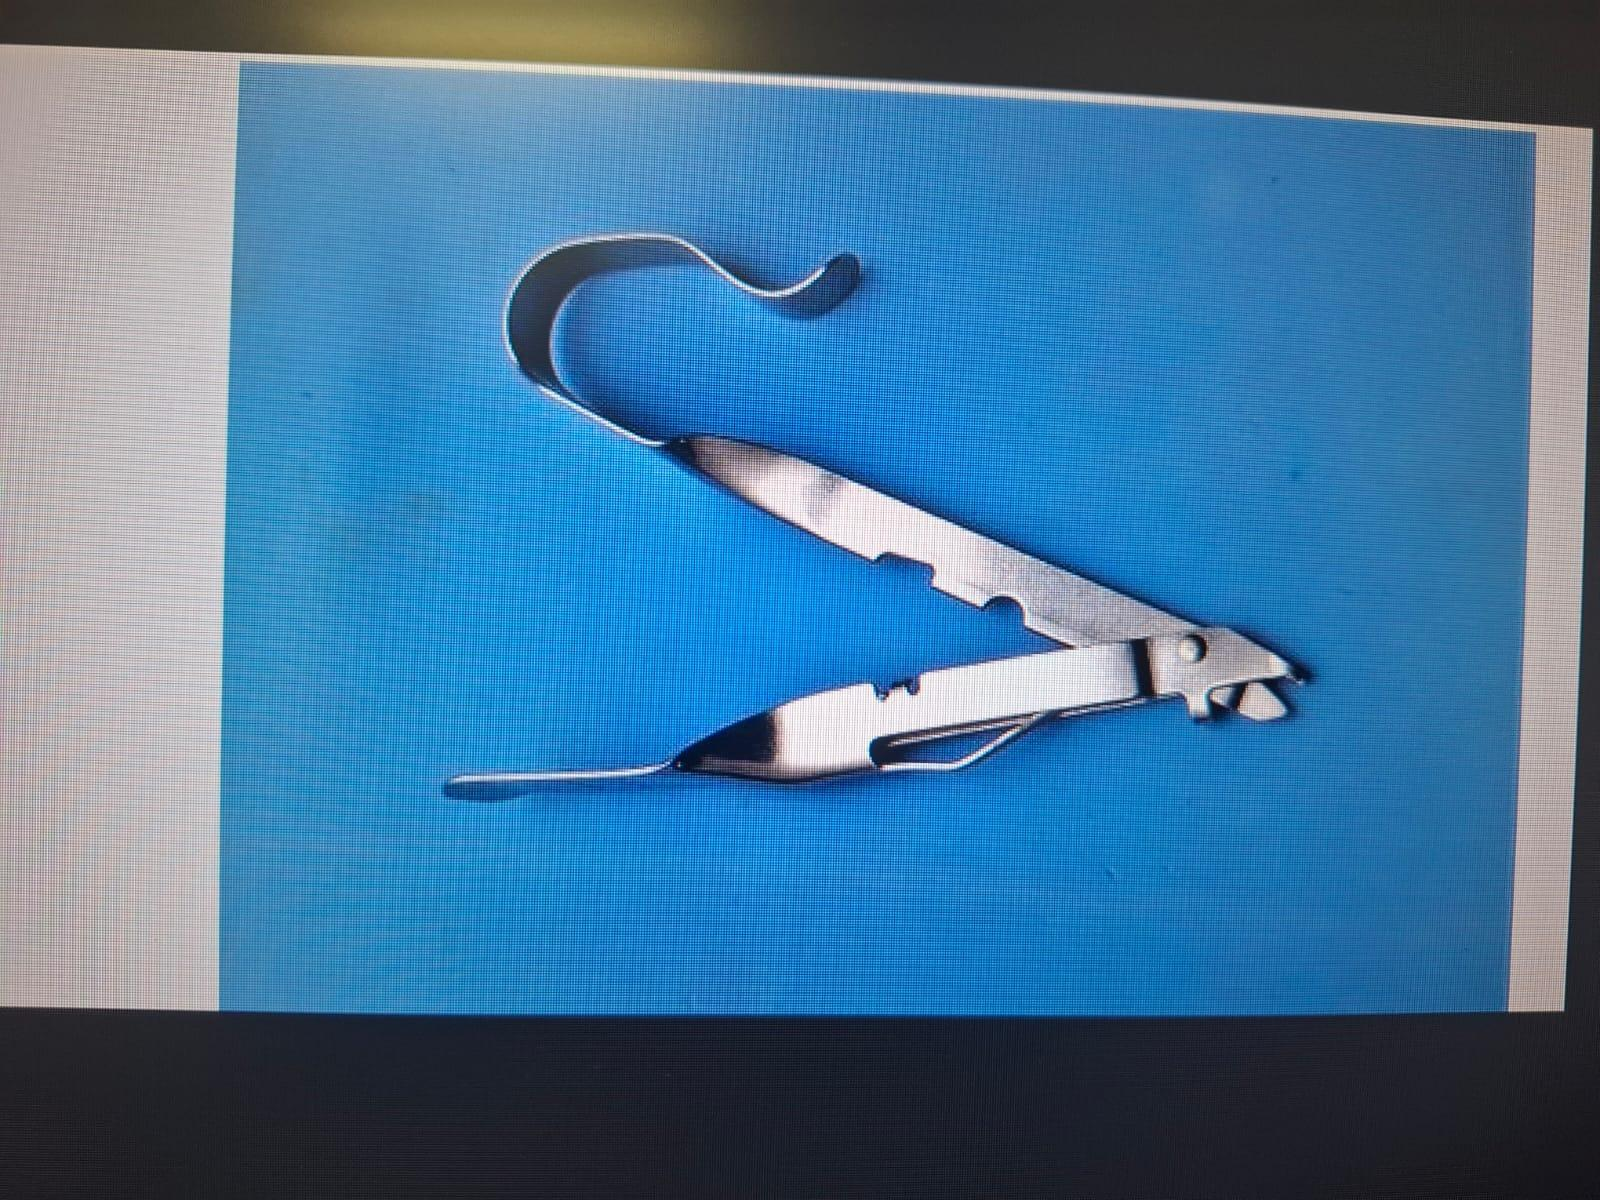Stapler Remover: (416, 211, 1332, 822)
